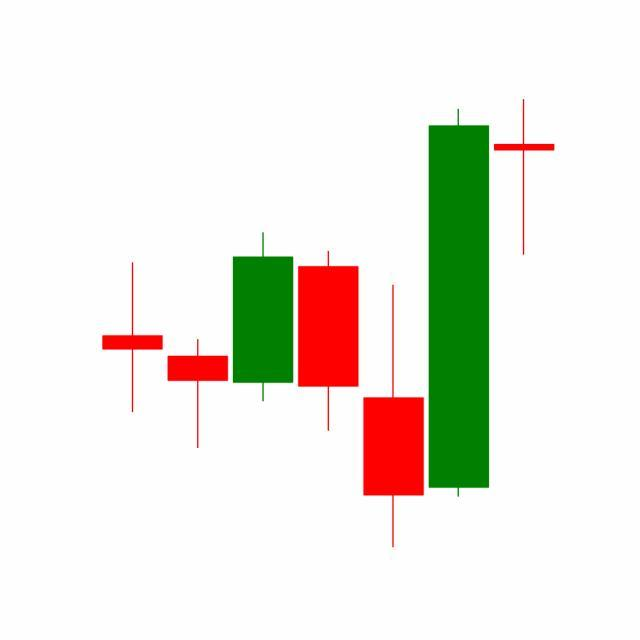Morning Star: (295, 105, 492, 549)
